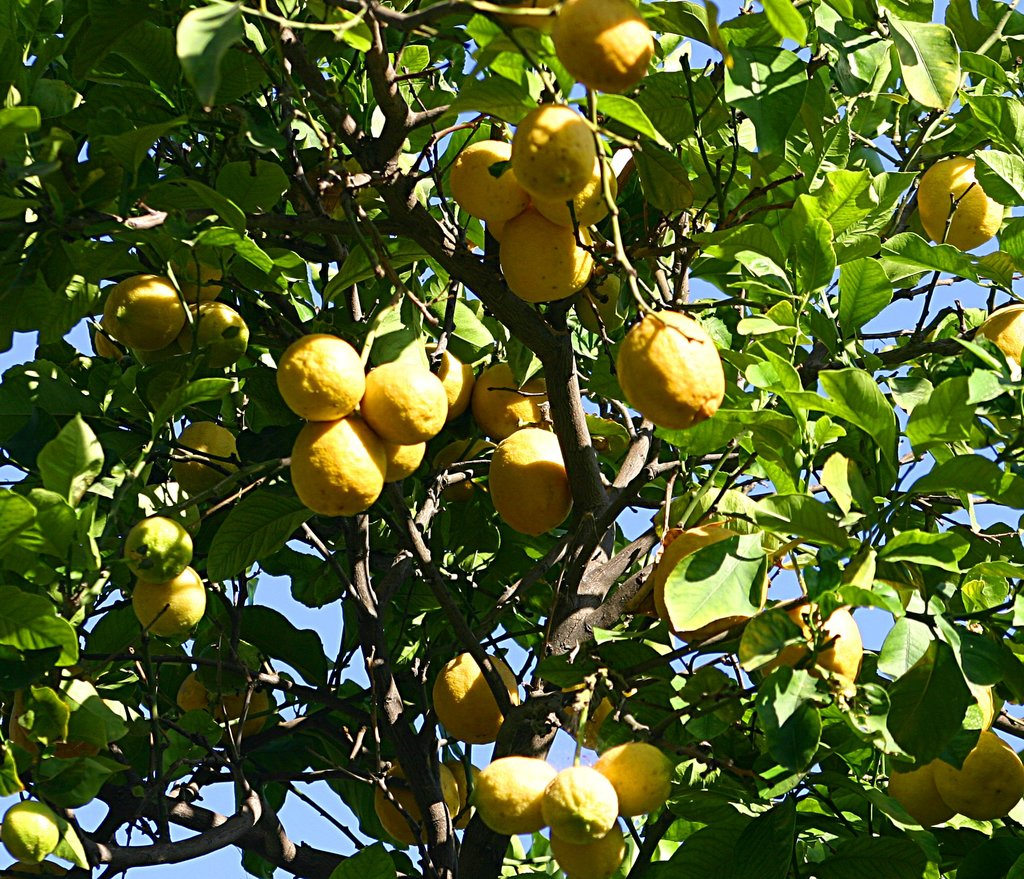Ripe: (630, 314, 724, 441), (272, 419, 394, 512), (550, 0, 644, 111), (491, 428, 572, 540), (431, 646, 500, 757), (919, 153, 978, 266), (107, 274, 177, 360), (273, 328, 342, 415), (955, 726, 1023, 814), (367, 364, 444, 441), (509, 211, 580, 292), (598, 737, 672, 803), (477, 762, 554, 823), (884, 757, 948, 830), (516, 106, 577, 181), (554, 777, 621, 836), (137, 509, 184, 583), (0, 804, 57, 862), (193, 305, 250, 361), (464, 140, 512, 206), (138, 565, 195, 613), (991, 310, 1023, 375), (177, 266, 215, 301)
